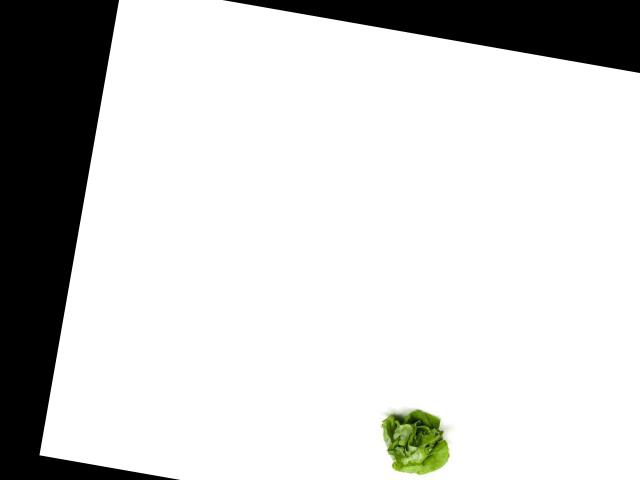lettuce: (371, 400, 457, 480)
